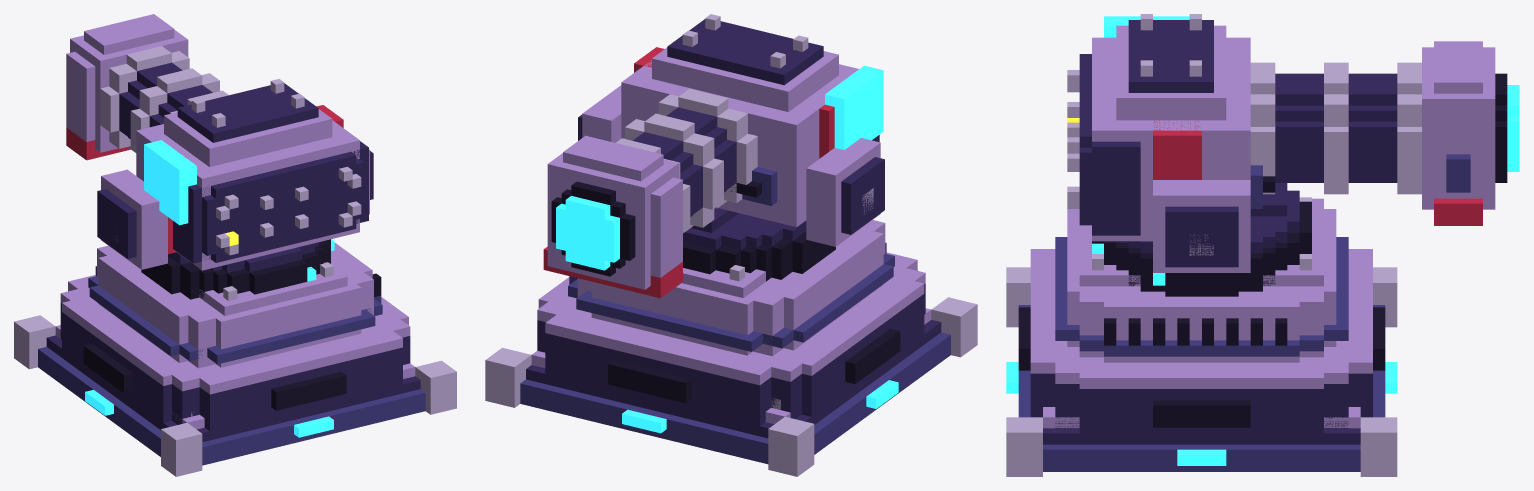
Rendered from laser-cannon.md.glb.
3 views of the same model, side by side, from view 1: azimuth 30°, elevation 25°; view 2: azimuth 150°, elevation 25°; view 3: azimuth 270°, elevation 25° (orthographic). The views are drawn at different scales.
Parts seen in each view (by area): view 1: laser-cannon.md; view 2: laser-cannon.md; view 3: laser-cannon.md.
Boxes of the visible parts, x1=… form: laser-cannon.md: x1=14, y1=14, x2=456, y2=476; laser-cannon.md: x1=485, y1=14, x2=977, y2=476; laser-cannon.md: x1=1006, y1=14, x2=1519, y2=476.
Bounding box in the file's own units: 2 × 2 × 2.62.
